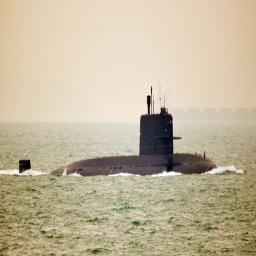submarine: (20, 112, 219, 172)
